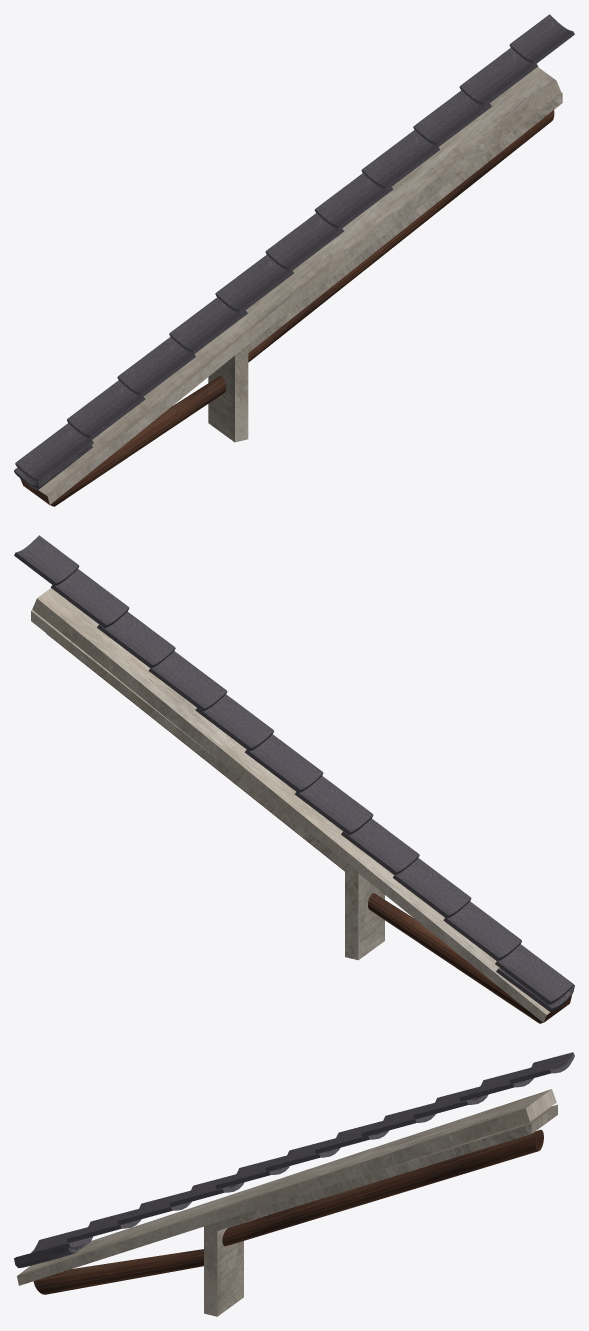
Rendered from SM_Roof_62.fbx.
3 views of the same model, one above another, from view 1: azimuth 30°, elevation 25°; view 2: azimuth 150°, elevation 25°; view 3: azimuth 330°, elevation 25° (orthographic).
Parts seen in each view (by area): view 1: SM_Roof_62; view 2: SM_Roof_62; view 3: SM_Roof_62.
Boxes of the visible parts, <box> form: SM_Roof_62: <box>14,14,574,506</box>; SM_Roof_62: <box>14,535,574,1023</box>; SM_Roof_62: <box>14,1052,574,1316</box>.
Size of the model in its own units: 479 by 41.88 by 302.
4 materials, 4 textured.
